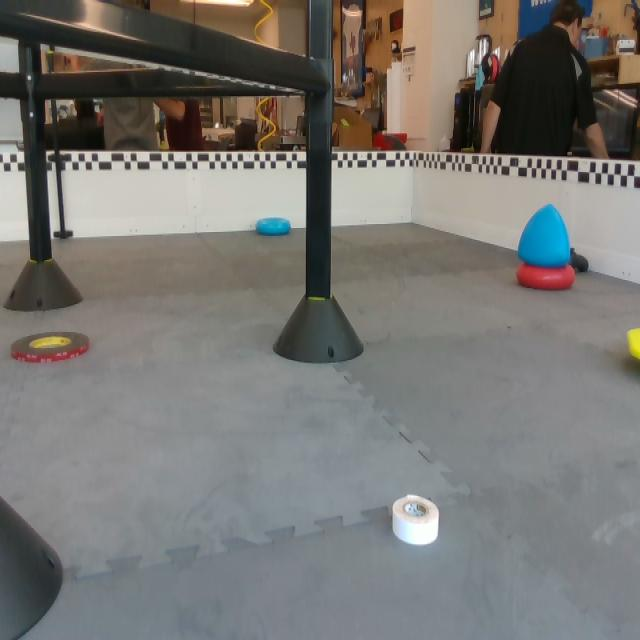Blue-Ring: (255, 214, 296, 241)
Mobile-Goal: (625, 324, 639, 361)
Red-Ring: (513, 263, 577, 293)
